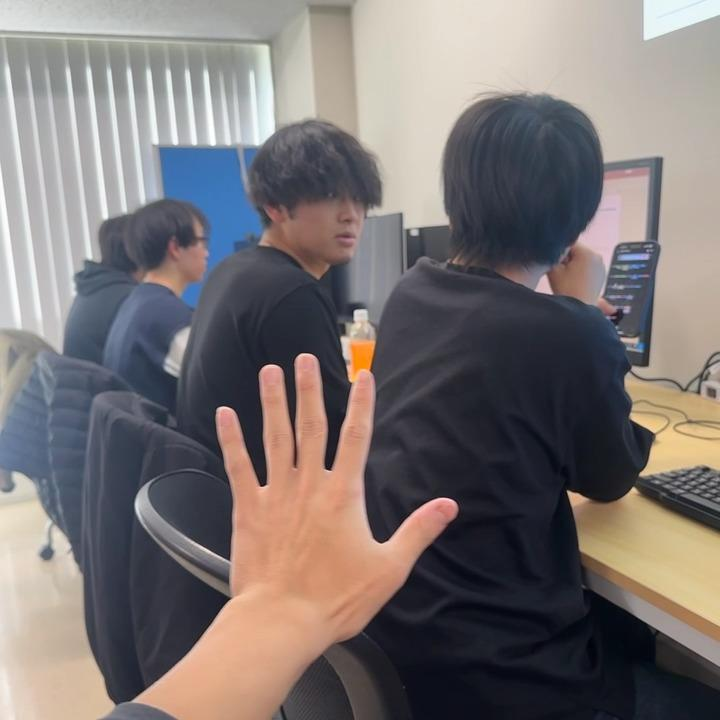without_gloves: (206, 253, 507, 616)
